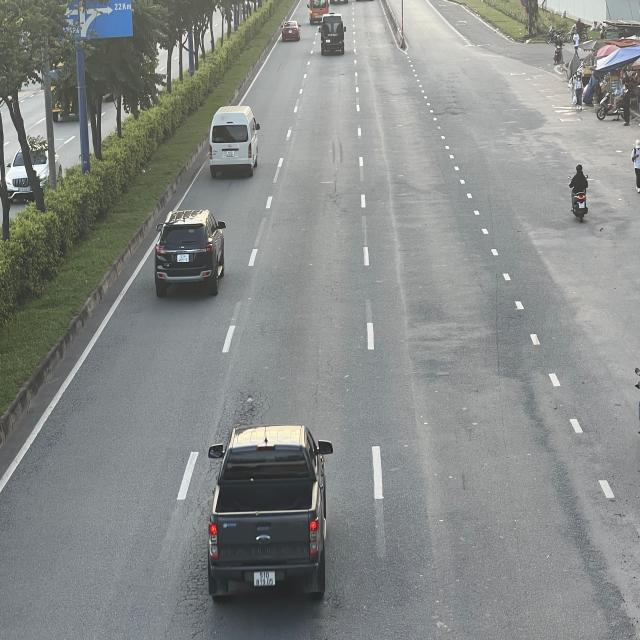car: (206, 421, 332, 599), (155, 208, 229, 294), (281, 21, 301, 44)
van: (207, 106, 258, 176), (320, 13, 346, 54), (308, 0, 329, 25)
